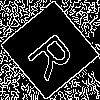R: (25, 25, 84, 83)
